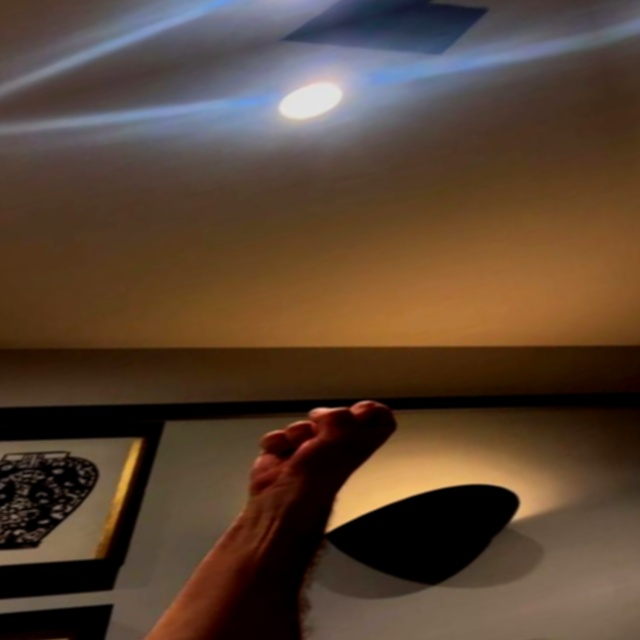Rock: (237, 389, 406, 497)
